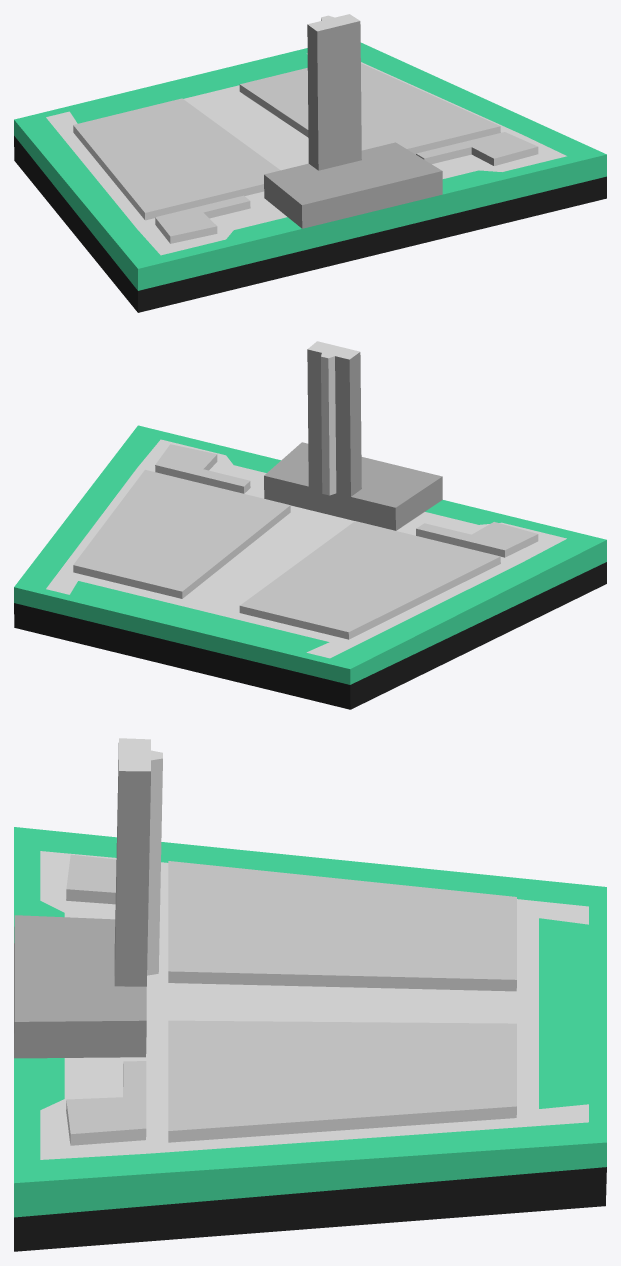
The model's file is Slicer.fbx.
3 views of the same model, one above another, from view 1: azimuth 30°, elevation 25°; view 2: azimuth 150°, elevation 25°; view 3: azimuth 270°, elevation 25° (orthographic). The views are drawn at different scales.
Parts seen in each view (by area): view 1: Cube; view 2: Cube; view 3: Cube.
Boxes of the visible parts, x1=… form: Cube: x1=14, y1=14, x2=606, y2=312; Cube: x1=14, y1=341, x2=606, y2=709; Cube: x1=14, y1=738, x2=606, y2=1251.
Bounding box in the file's own units: 24.9 × 17.51 × 10.55.
